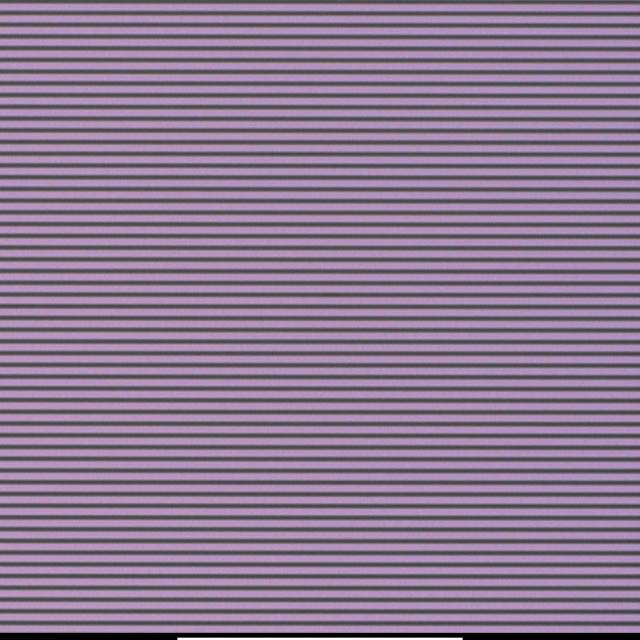03_intrusion: (307, 302, 320, 314)
